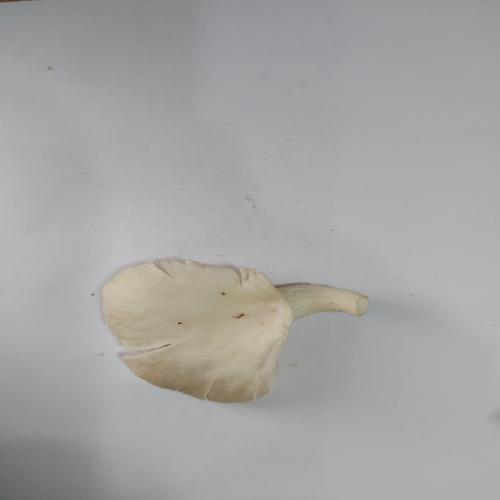Oyster Mushroom: (99, 257, 370, 404)
